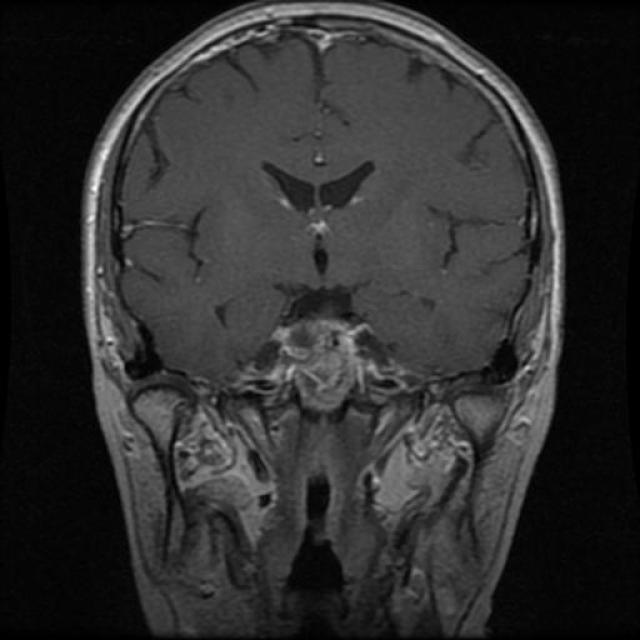pituitary: (268, 310, 391, 417)
